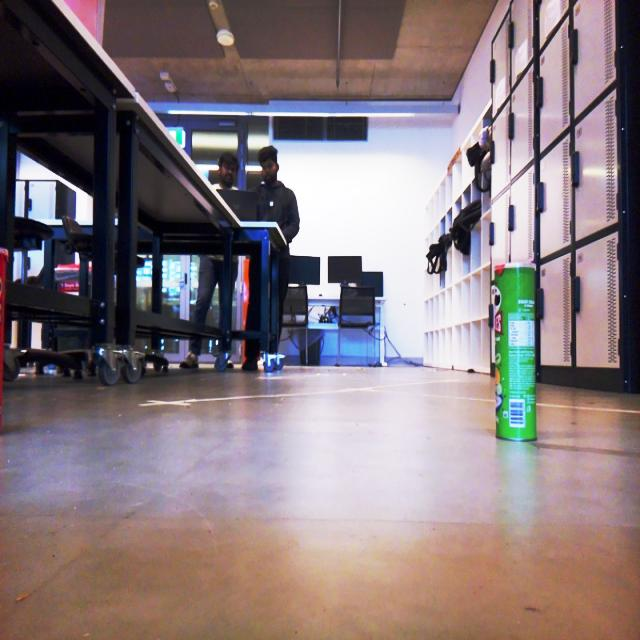greenpringles: (488, 235, 541, 456)
